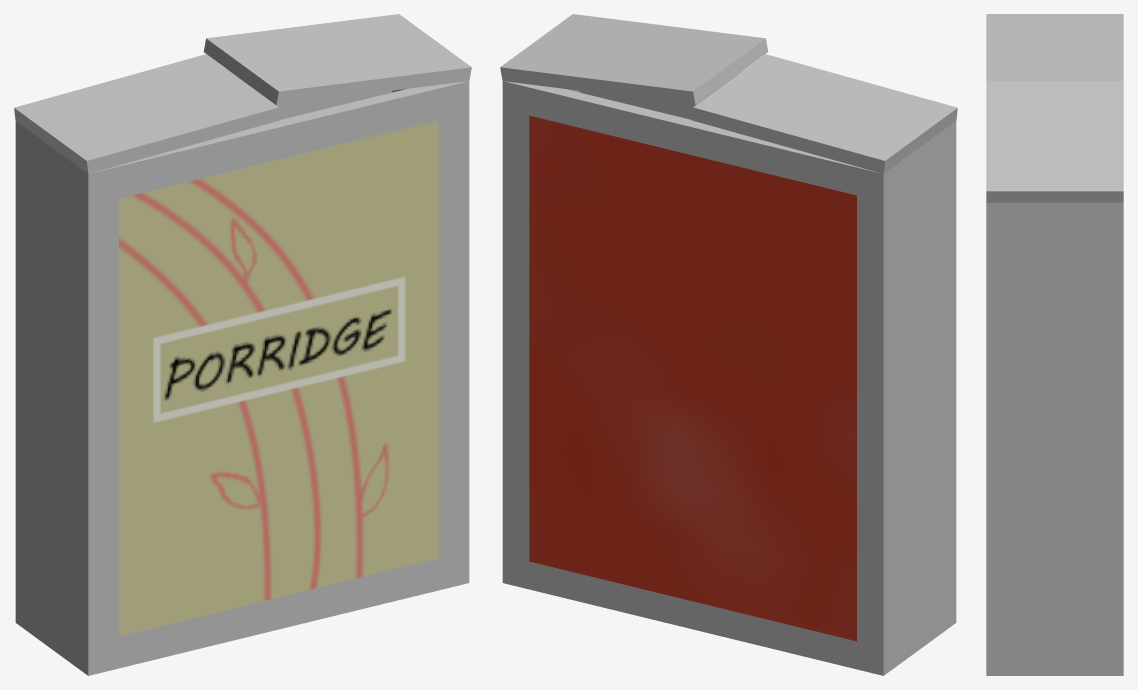
File: SM_Food_33.fbx
3 renders of one model, left to right at view 1: azimuth 30°, elevation 25°; view 2: azimuth 150°, elevation 25°; view 3: azimuth 270°, elevation 25°, orthographic. The views are drawn at different scales.
Parts seen in each view (by area): view 1: SM_Food_33; view 2: SM_Food_33; view 3: SM_Food_33.
Boxes of the visible parts, x1,y1,x2,y2 form: SM_Food_33: (14, 14, 471, 675); SM_Food_33: (500, 14, 957, 675); SM_Food_33: (986, 14, 1123, 675).
Bounding box in the file's own units: 0.19 × 0.2536 × 0.0622.
